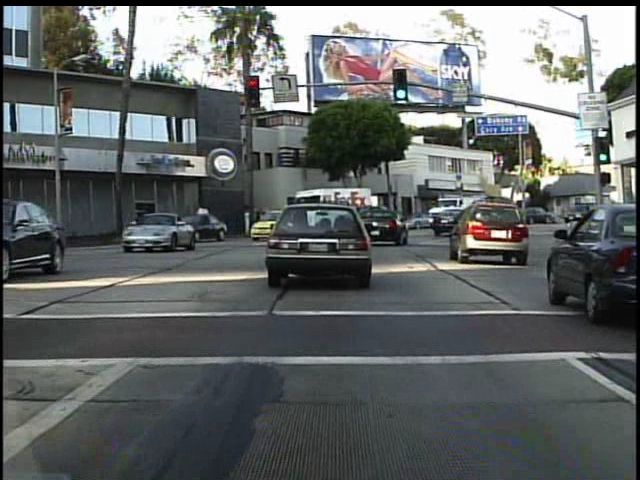person: (253, 204, 268, 238)
